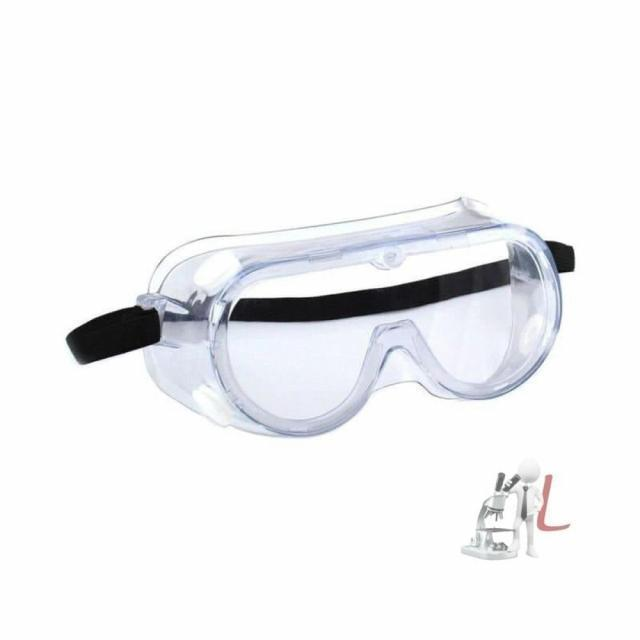Goggles: (48, 186, 586, 448)
